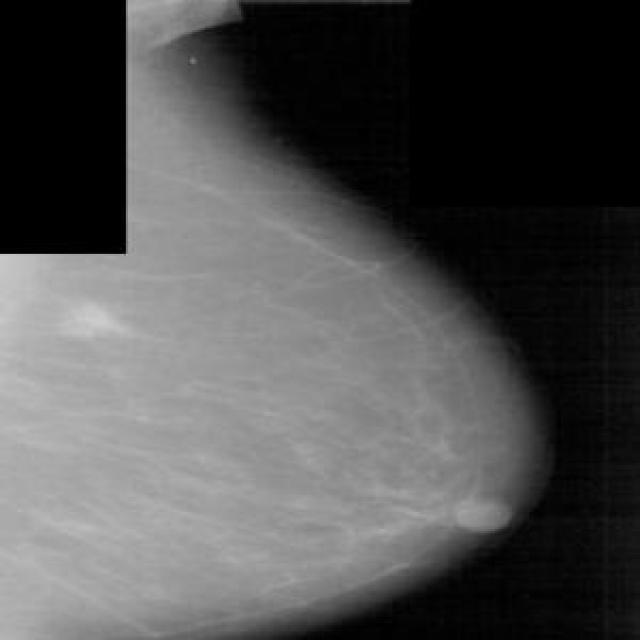tumor: (58, 290, 150, 344)
